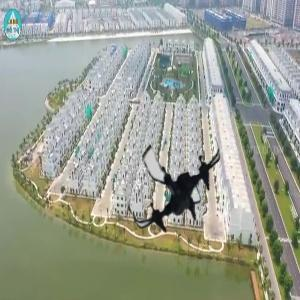drone: (124, 134, 231, 241)
